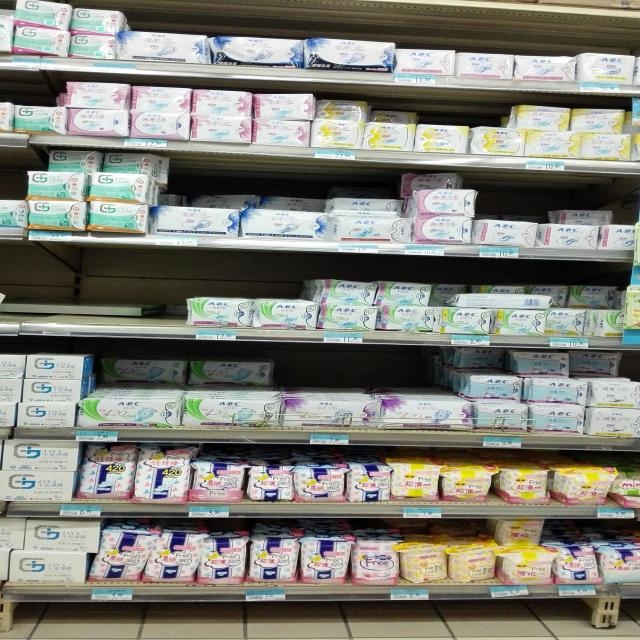void: (0, 254, 54, 336), (142, 257, 186, 338), (96, 256, 138, 336), (56, 254, 96, 334)
